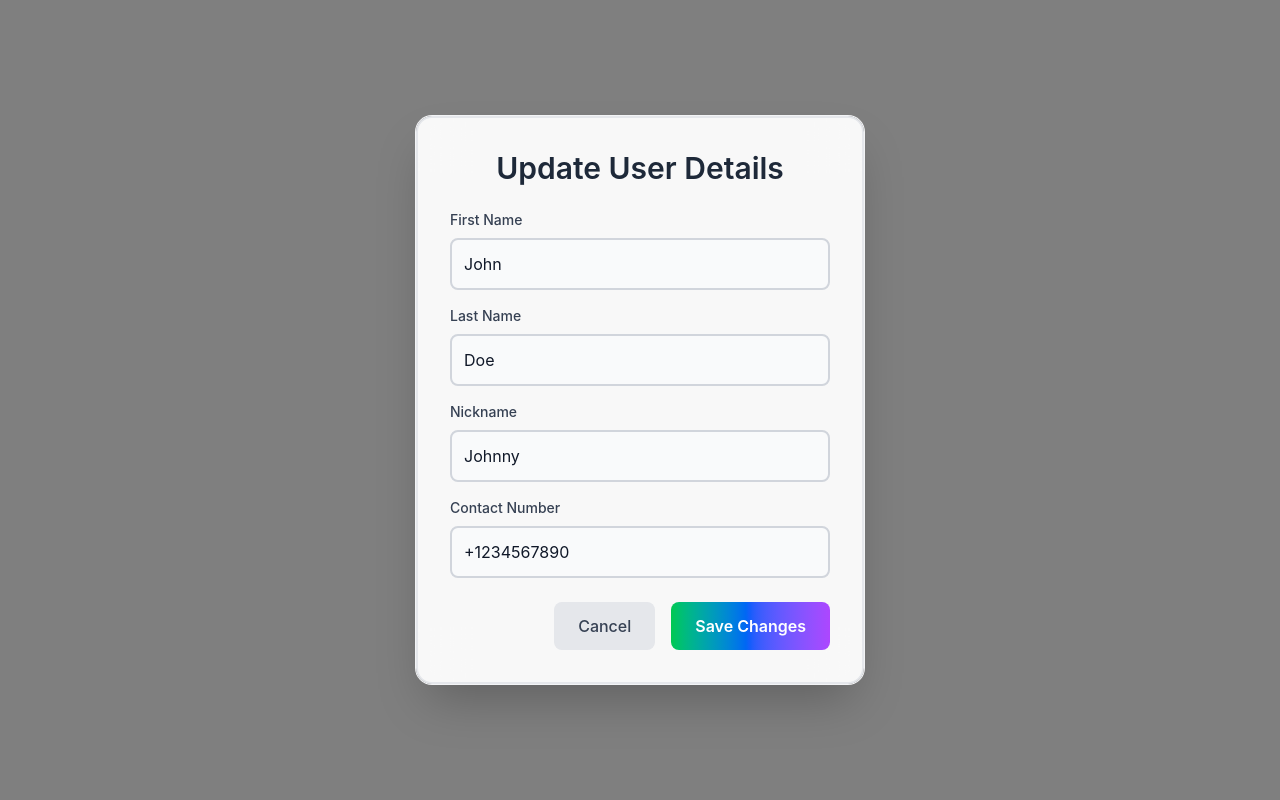
Test case: UpdateUserModal Component › Form Validation › should show validation errors when submitting with empty Last Name
Clear the last name field
Clear the field with placeholder "Enter your last name" below "Last Name" at (640, 360), box [450, 334, 830, 386]
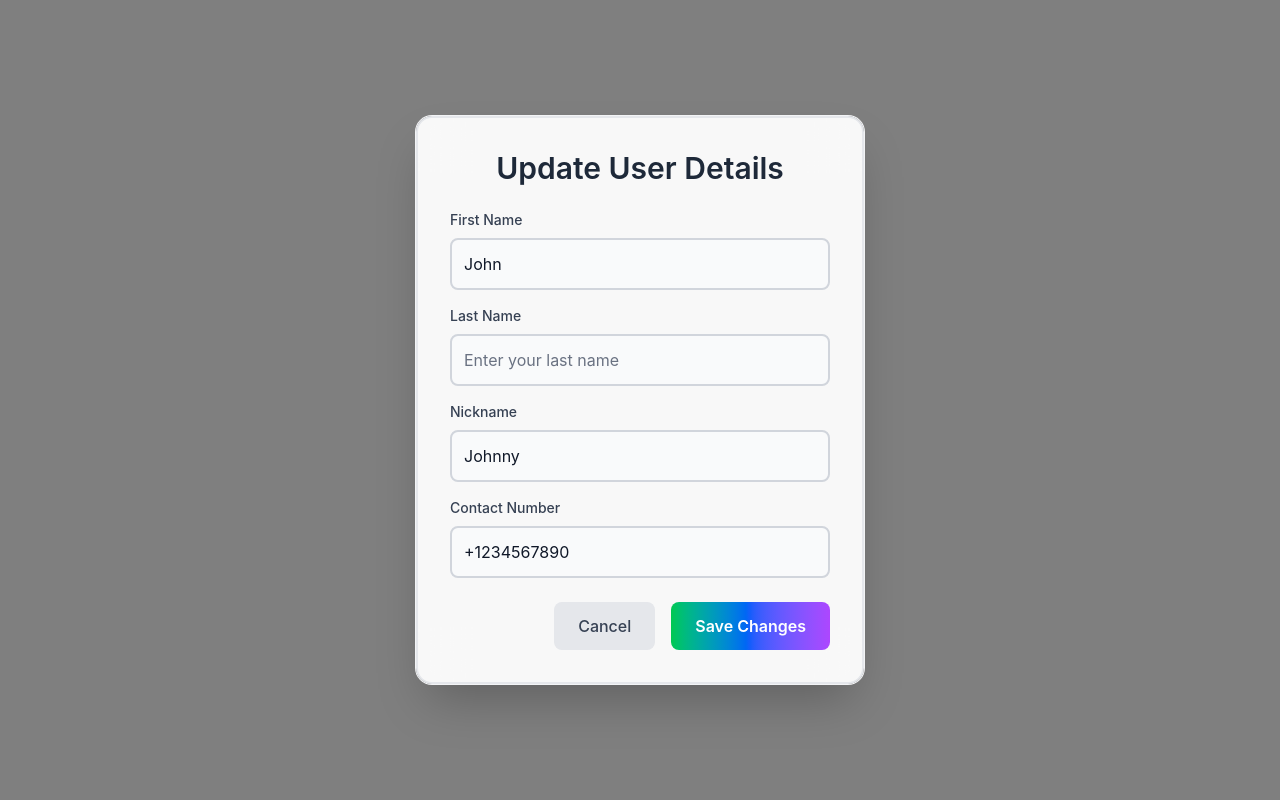
Submit the form
Click the button "Save Changes" at (751, 626), box [671, 602, 830, 650]
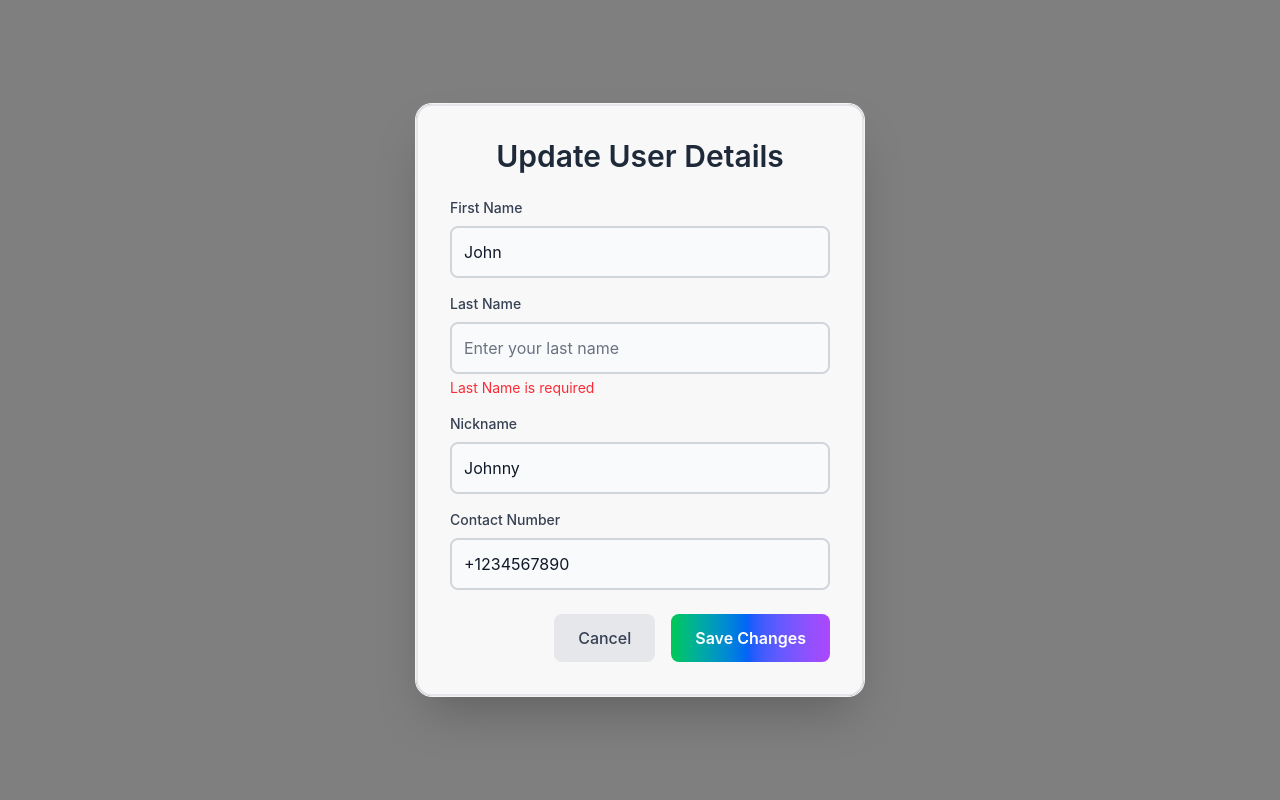
Check: the text "Last Name is required" is shown, box [450, 379, 594, 396]
